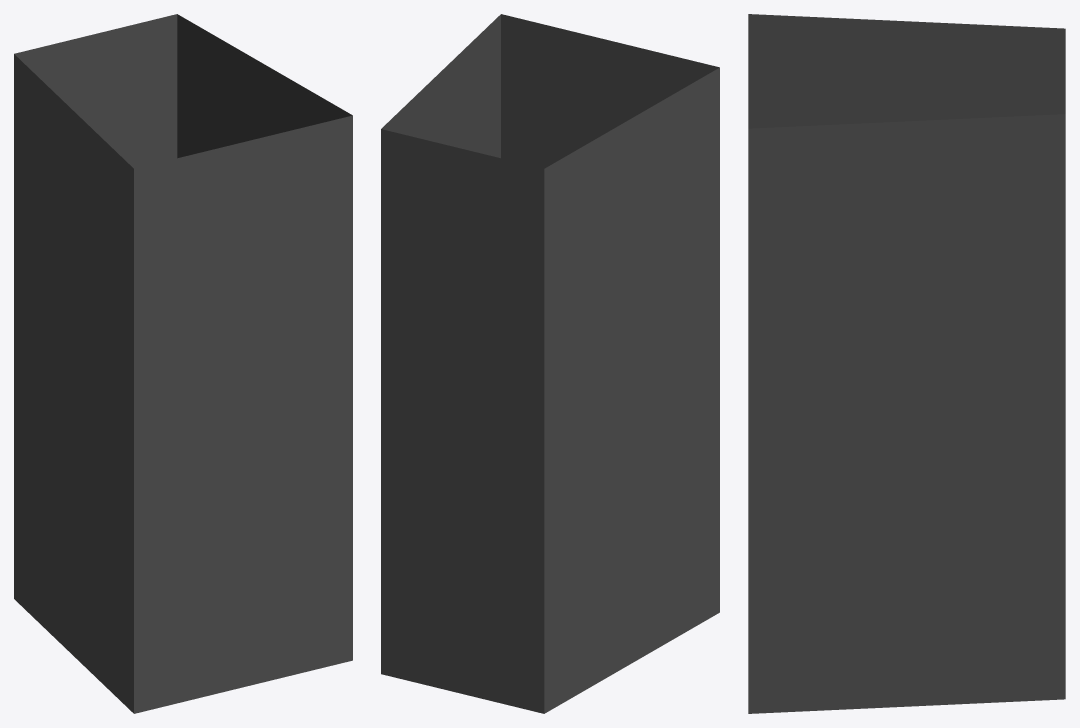
File: Itr_Obj_Speaker3_Base_03.FBX
3 renders of one model, left to right at view 1: azimuth 30°, elevation 25°; view 2: azimuth 150°, elevation 25°; view 3: azimuth 270°, elevation 25°, orthographic. The views are drawn at different scales.
Parts seen in each view (by area): view 1: Itr_Obj_Speaker3_Base_03; view 2: Itr_Obj_Speaker3_Base_03; view 3: Itr_Obj_Speaker3_Base_03.
Boxes of the visible parts, x1,y1,x2,y2 form: Itr_Obj_Speaker3_Base_03: [14, 14, 352, 713]; Itr_Obj_Speaker3_Base_03: [381, 14, 719, 713]; Itr_Obj_Speaker3_Base_03: [748, 14, 1065, 713].
Size of the model in its own units: 9.88 by 23.51 by 11.56.
